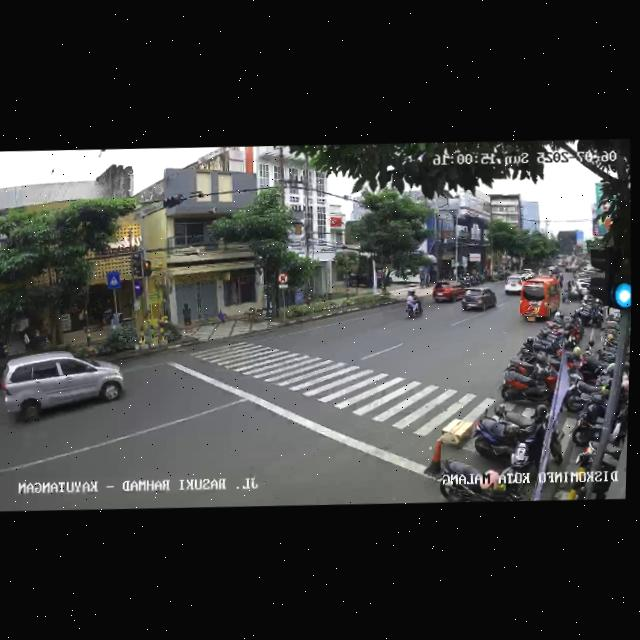car: (0, 345, 129, 426), (517, 275, 562, 323), (459, 284, 499, 314), (431, 280, 466, 306), (502, 275, 528, 296)
motorcycle: (403, 288, 422, 319)
